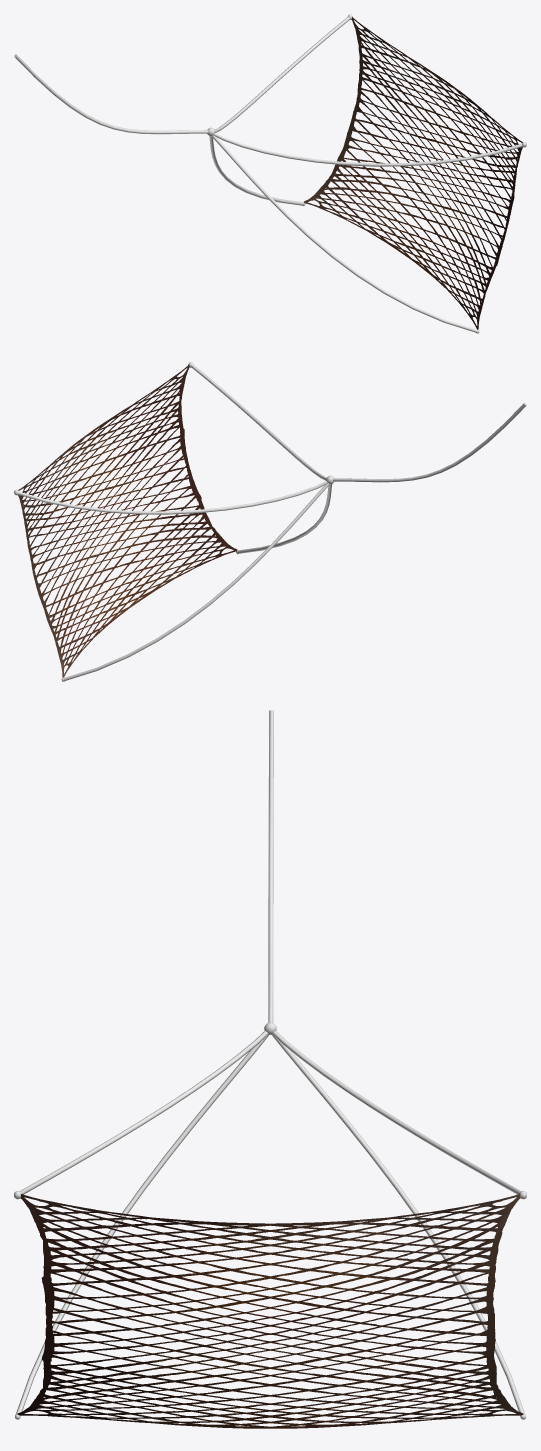
File: NetRopes.fbx
3 renders of one model, top to bottom at view 1: azimuth 30°, elevation 25°; view 2: azimuth 150°, elevation 25°; view 3: azimuth 270°, elevation 25°, orthographic. The views are drawn at different scales.
Parts seen in each view (by area): view 1: Plane, BézierCurve, BézierCurve.001, BézierCurve.002; view 2: Plane, BézierCurve, BézierCurve.001, BézierCurve.002; view 3: Plane, BézierCurve.001, BézierCurve, BézierCurve.002.
Boxes of the visible parts, x1,y1,x2,y2 form: Plane: (304,17,522,329); BézierCurve: (214,17,522,166); BézierCurve.001: (209,135,477,332); BézierCurve.002: (14,54,208,134); Plane: (18,364,237,677); BézierCurve: (18,364,327,514); BézierCurve.001: (63,483,332,680); BézierCurve.002: (333,402,526,482); Plane: (17,1194,523,1428); BézierCurve.001: (16,1034,524,1413); BézierCurve: (19,1031,521,1194); BézierCurve.002: (268,710,273,1022).
Bounding box in the file's own units: 1403 × 936 × 971.
1 material, 1 textured.
